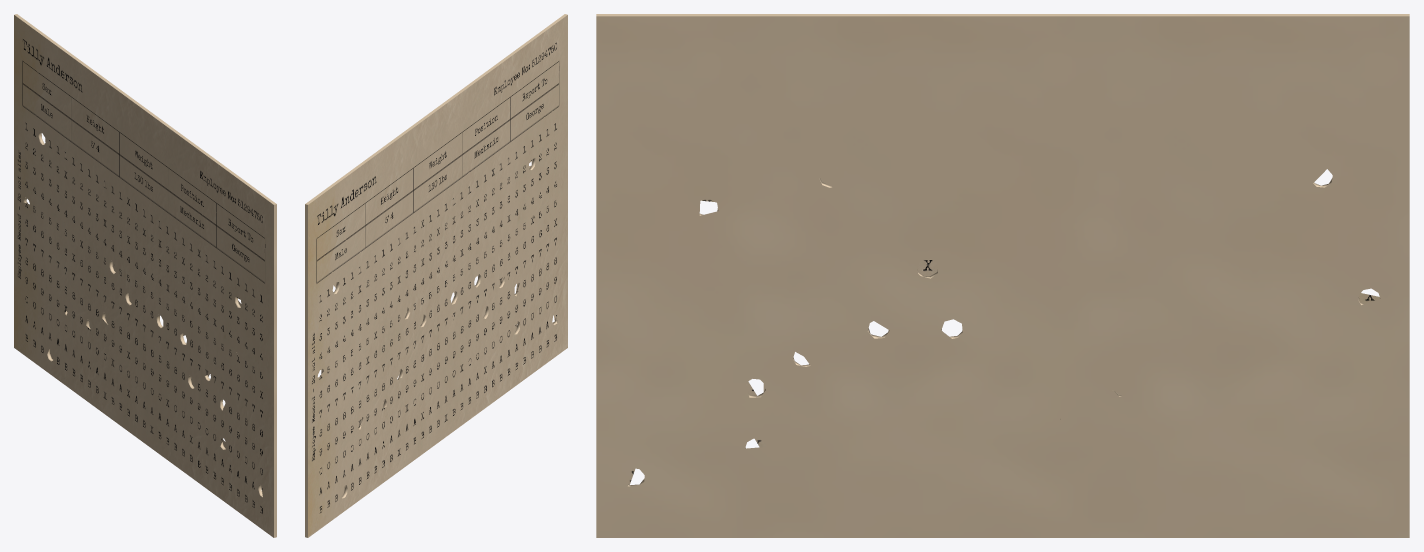
File: employeeCard02Aadi.fbx
The picture shows the model from 3 angles, left to right: view 1: azimuth 30°, elevation 25°; view 2: azimuth 150°, elevation 25°; view 3: azimuth 270°, elevation 25°; orthographic projection. The views are drawn at different scales.
Visible parts, largest first — view 1: Employee 02 Card Puzzle Punched; view 2: Employee 02 Card Puzzle Punched; view 3: Employee 02 Card Puzzle Punched.
Boxes of the visible parts, bbox=[...] form: Employee 02 Card Puzzle Punched: bbox=[14, 14, 276, 537]; Employee 02 Card Puzzle Punched: bbox=[305, 14, 567, 537]; Employee 02 Card Puzzle Punched: bbox=[596, 14, 1409, 537].
Bounding box in the file's own units: 0.9779 × 100 × 141.
Materials: 1 (1 with a texture image).
